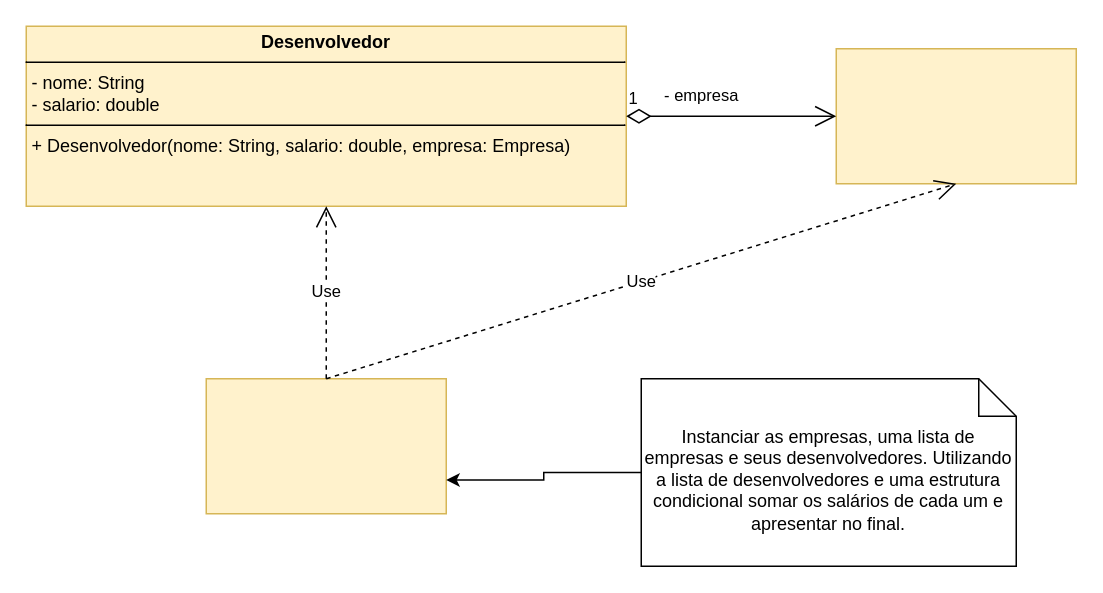
The diagram is 1103 pixels wide and 593 high, and some of its shapes have lost their labels. The shapes that lost their labels are listed below. From the top down, each one's centre as x and y in pixels, then its label:
the point at 955,115: Empresa - nome: String + Empresa(nome: String)
the point at 325,445: Main + main()
